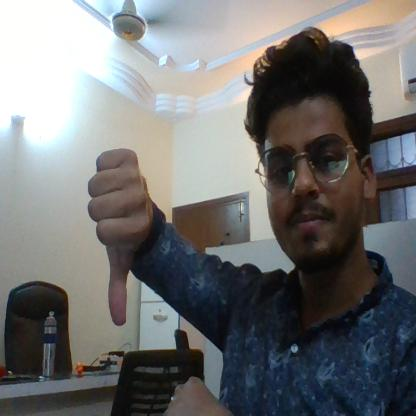thumbs-down: (83, 141, 153, 326)
